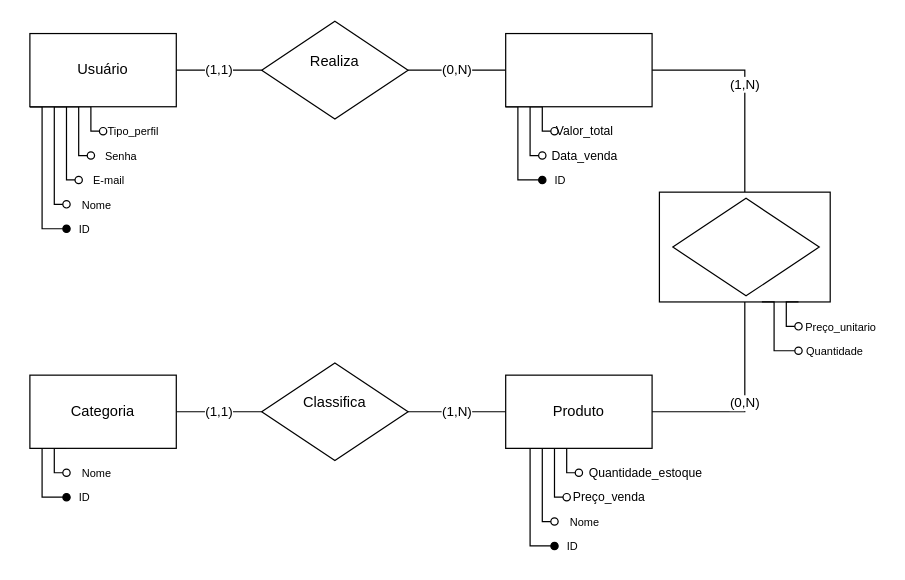
Image size: 905x580. Some labels were removed from this diagram. The shapes that lost their labels are listed below. From the top down, each one's box as (x1, y1, x2, y2) in pixels, then its label:
(504, 32, 652, 107): Venda
(672, 197, 819, 296): Contém
